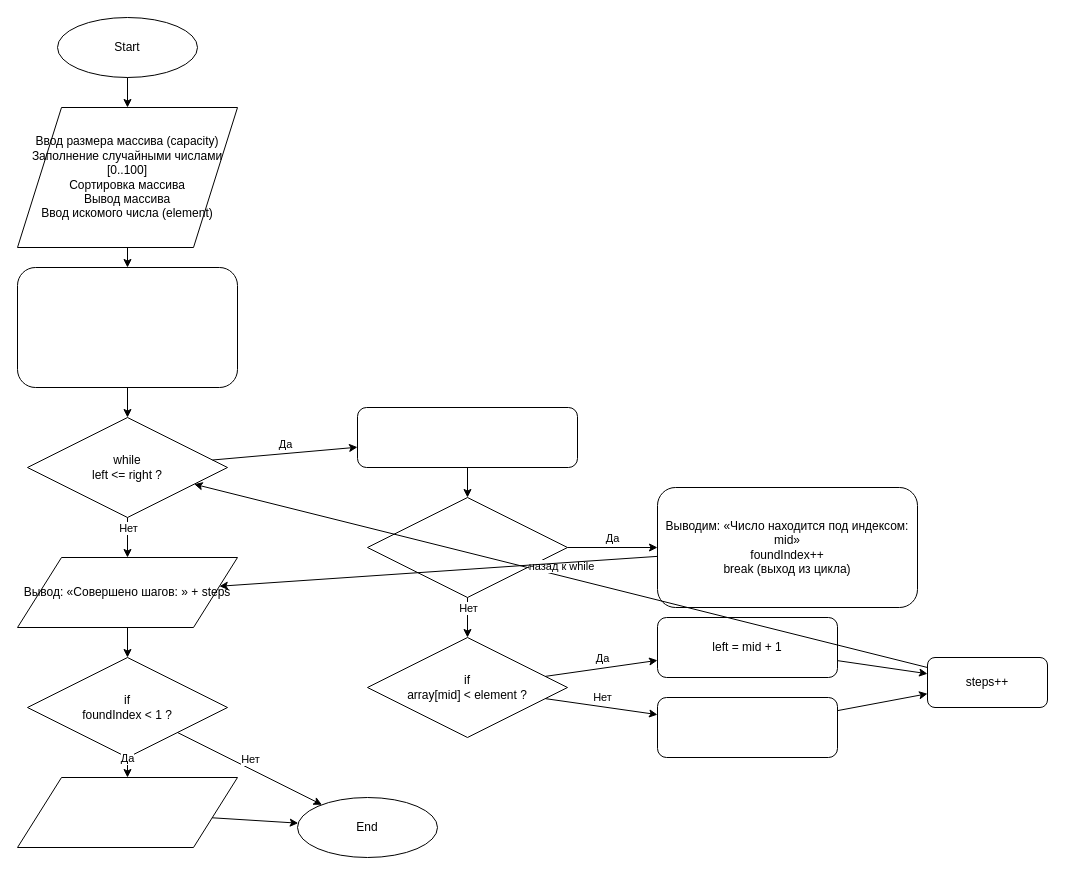
This 1065x875 diagram has some shape labels left out. Each missing label, with the centre of its shape:
"if array[mid] == element ?" belongs at (467,547).
"mid = (left + right) / 2" belongs at (467,437).
"right = mid - 1" belongs at (747,727).
"Вывод: «Указанного числа нет в массиве!»" belongs at (127,812).
"Инициализация: left = 0 right = array.length - 1 steps = 0 foundIndex = 0" belongs at (127,327).
